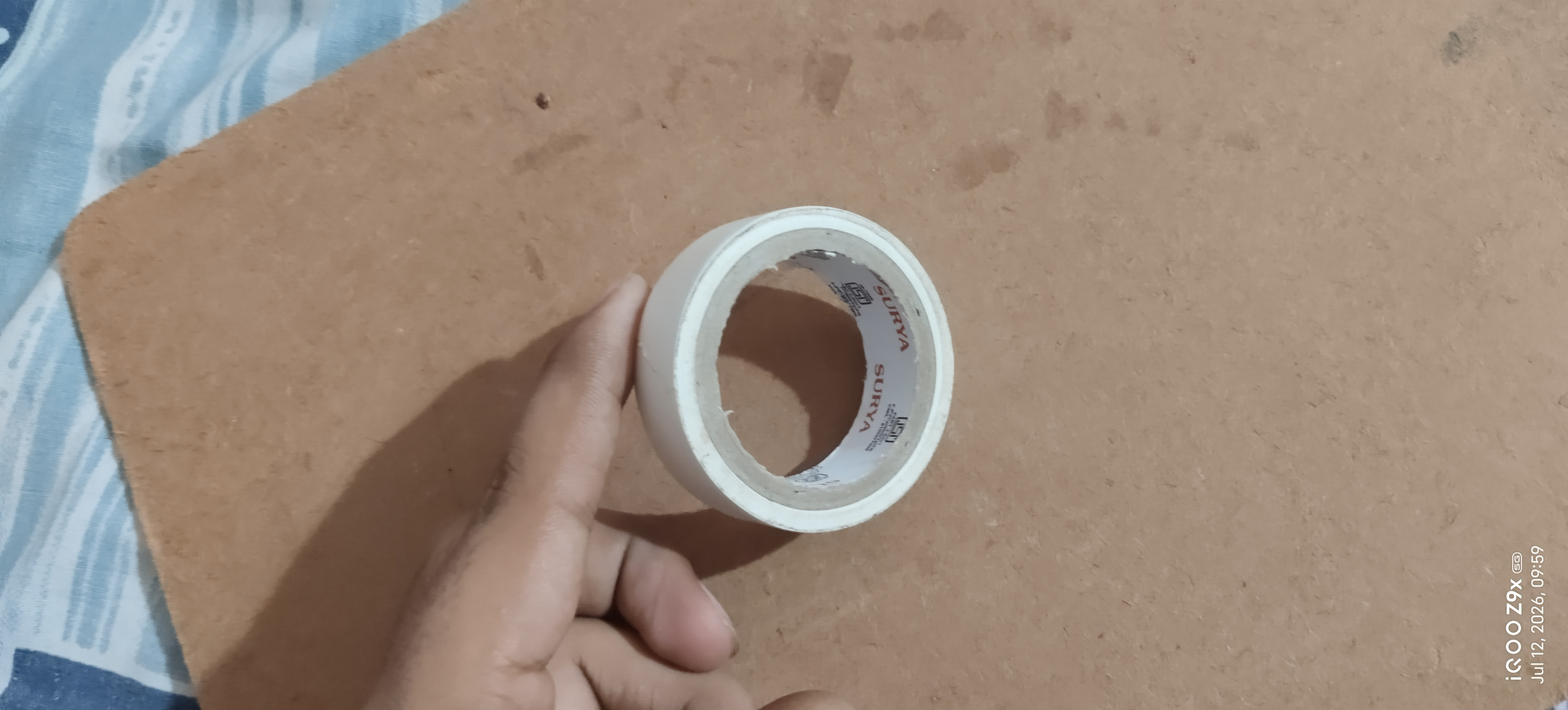tape_roll: (623, 189, 992, 561)
